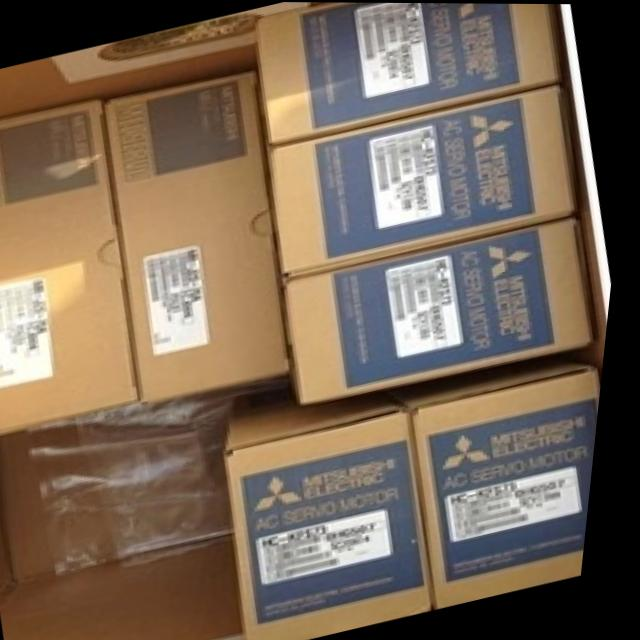box: (0, 2, 613, 640), (103, 71, 298, 402), (268, 82, 580, 281), (280, 214, 603, 405), (232, 384, 447, 640), (392, 355, 608, 605), (0, 99, 147, 435), (253, 2, 559, 145)
